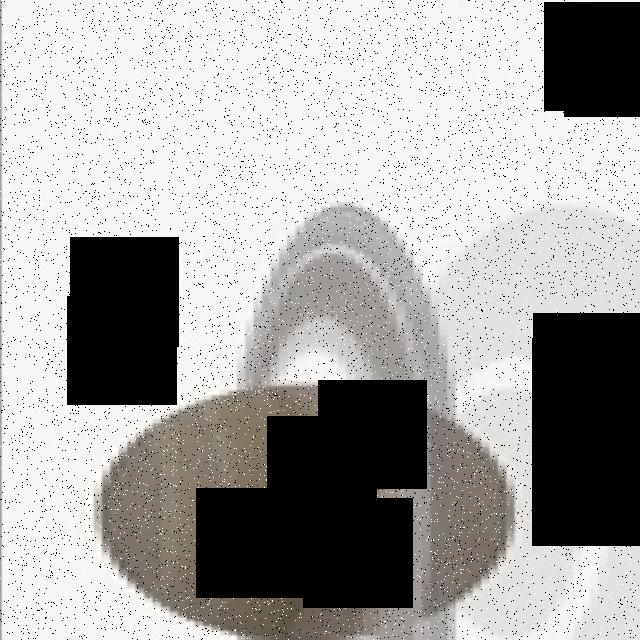Saturn: (84, 197, 522, 640)
